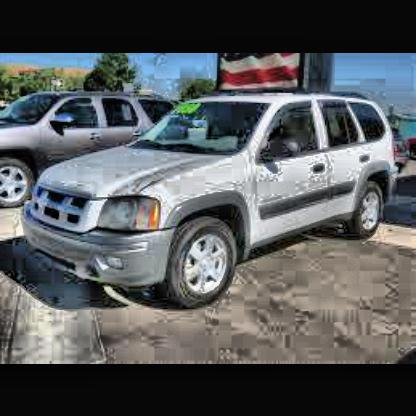Isuzu Ascender SUV 2008: (21, 90, 396, 308)
